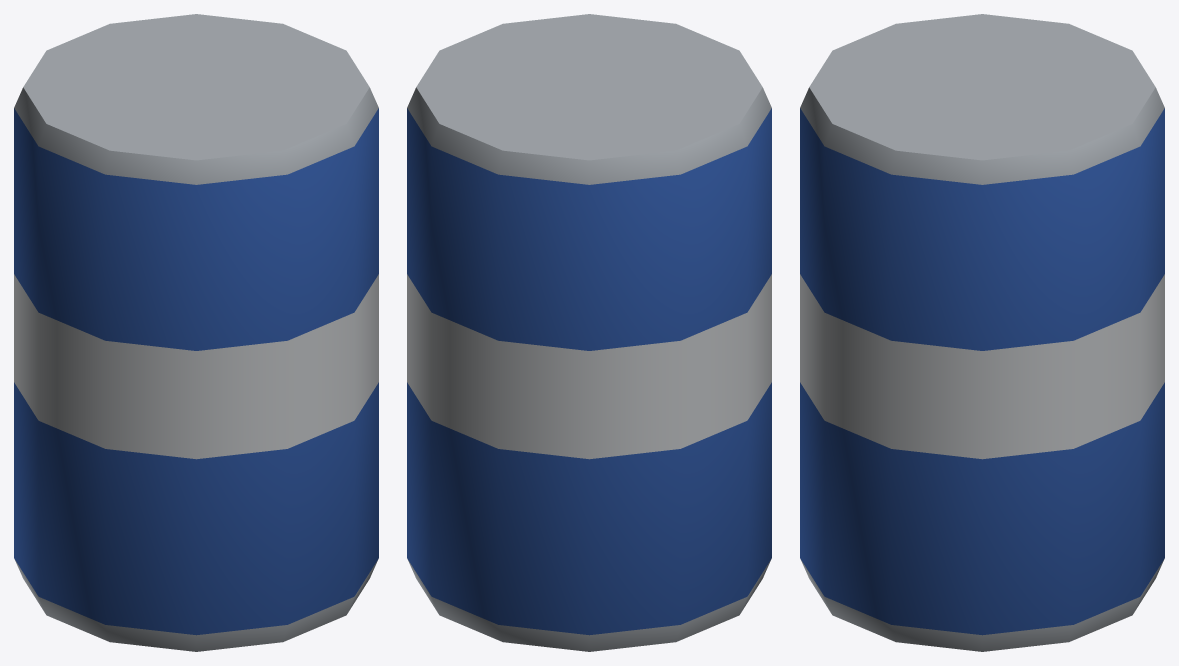
The model's file is can_soup.glb.
3 views of the same model, side by side, from view 1: azimuth 30°, elevation 25°; view 2: azimuth 150°, elevation 25°; view 3: azimuth 270°, elevation 25° (orthographic).
Visible parts, largest first — view 1: Item; view 2: Item; view 3: Item.
Boxes of the visible parts, left/top/right/bottom form: Item: left=14, top=14, right=378, bottom=651; Item: left=407, top=14, right=771, bottom=651; Item: left=800, top=14, right=1164, bottom=651.
Size of the model in its own units: 0.0962 by 0.143 by 0.0962.
